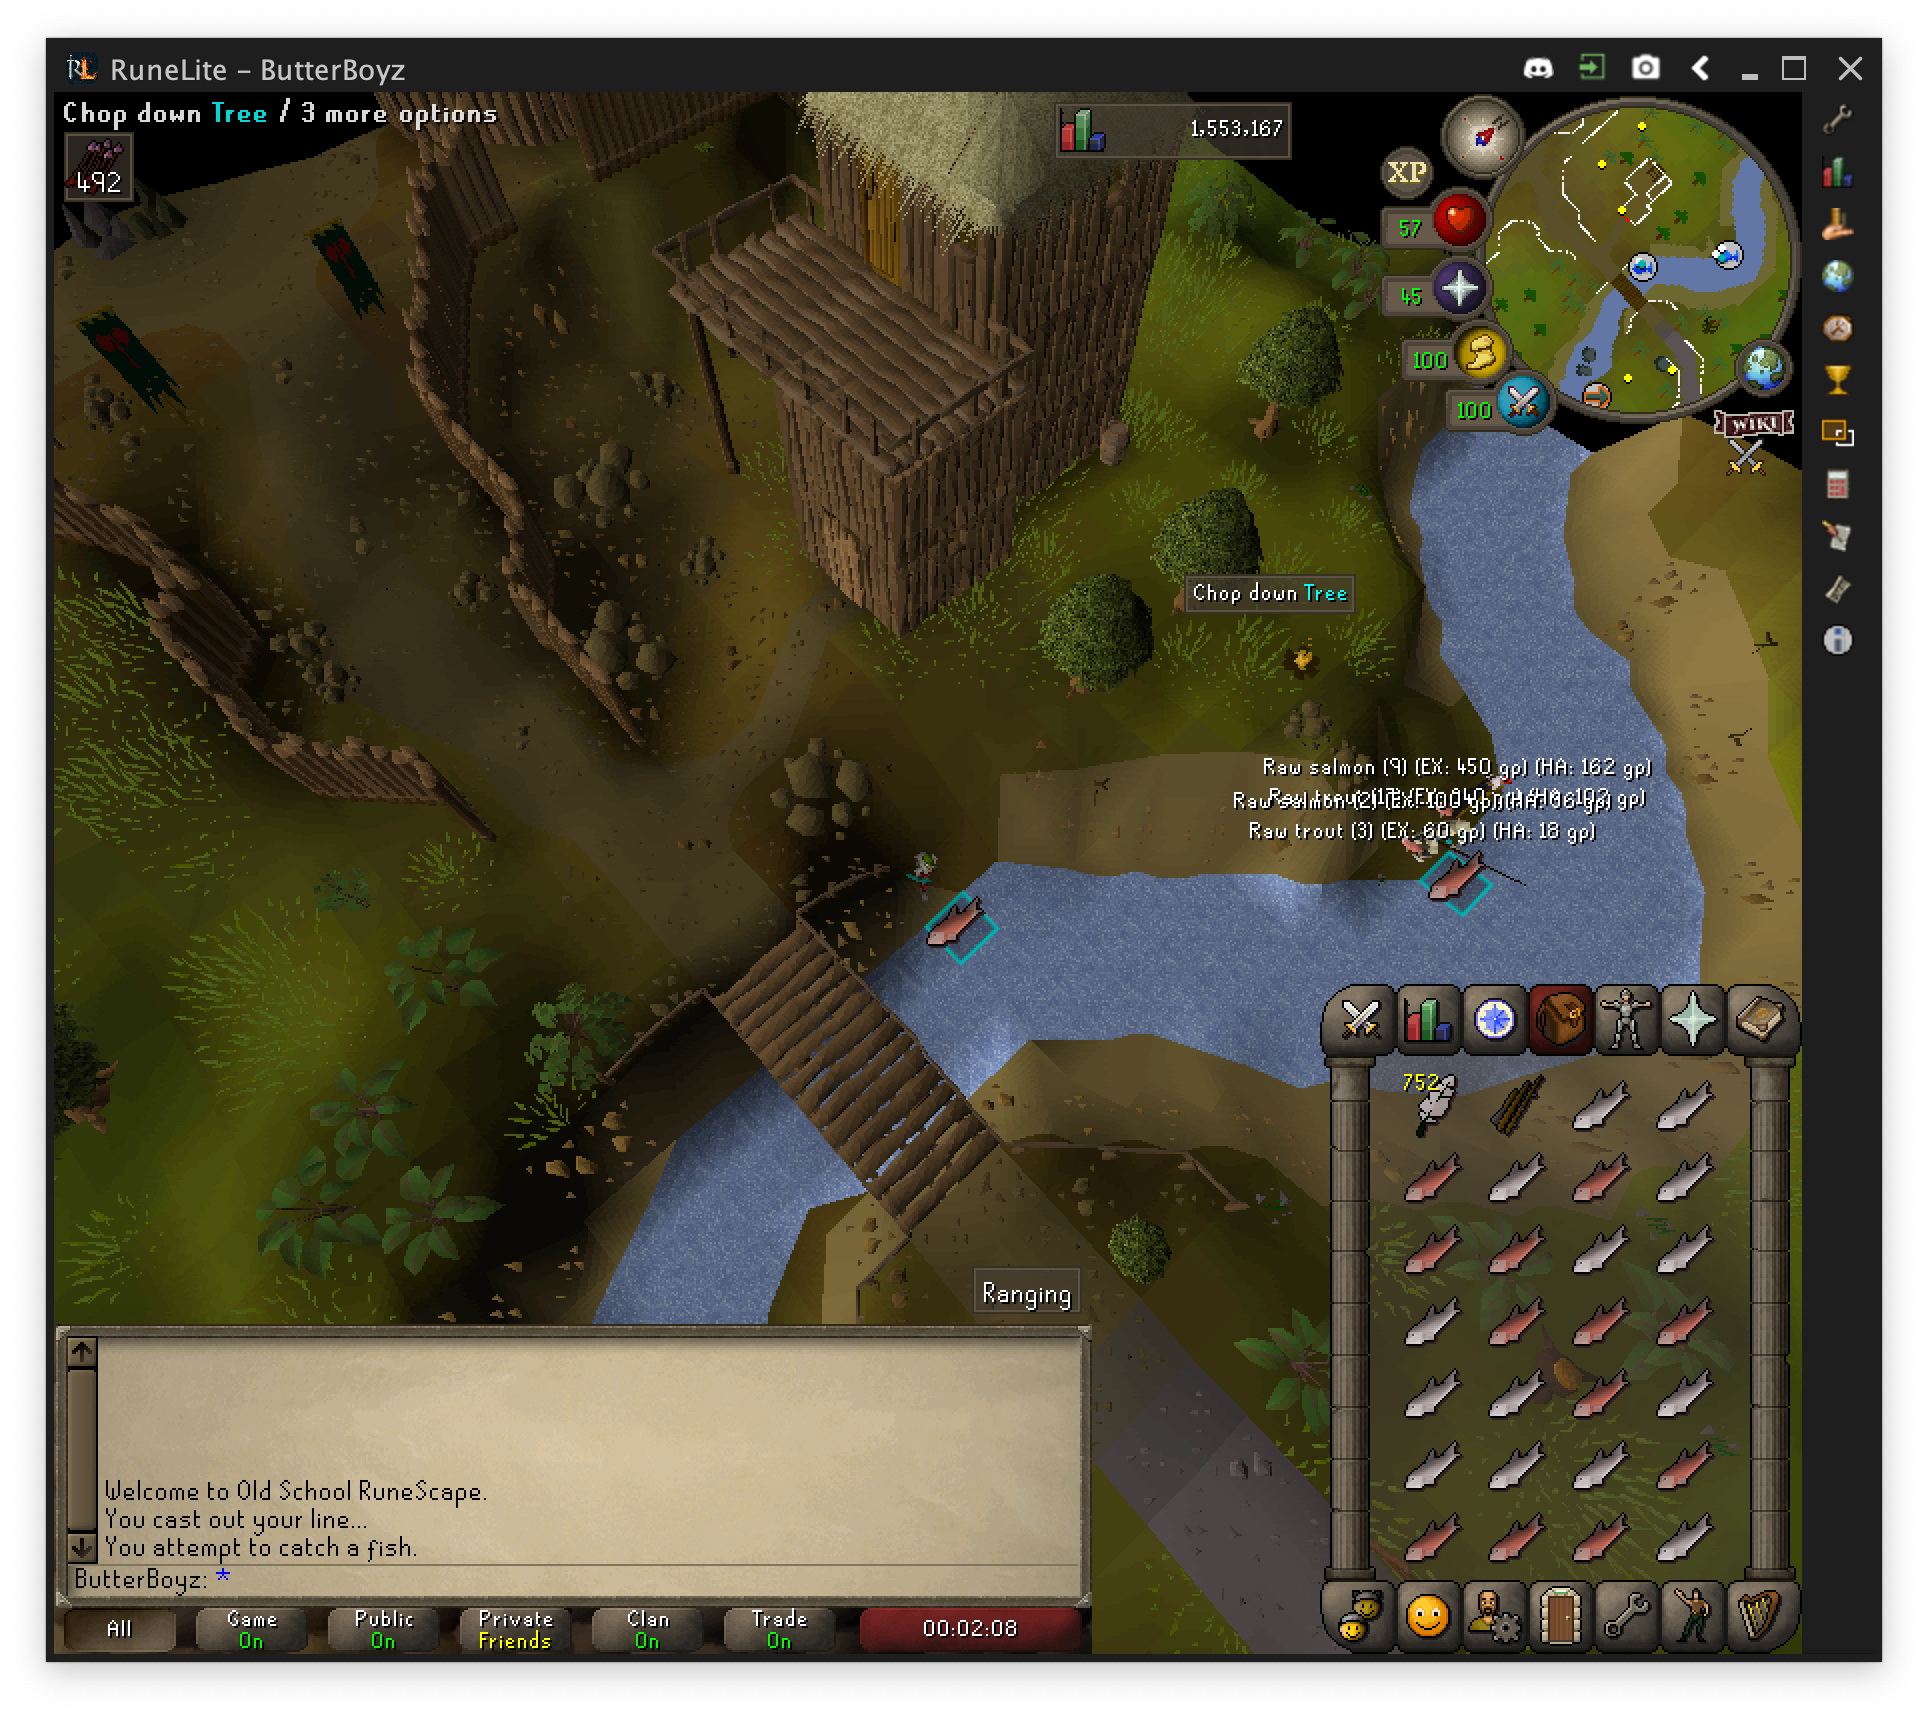fishing spot: (937, 903, 987, 952), (1438, 861, 1481, 908)
